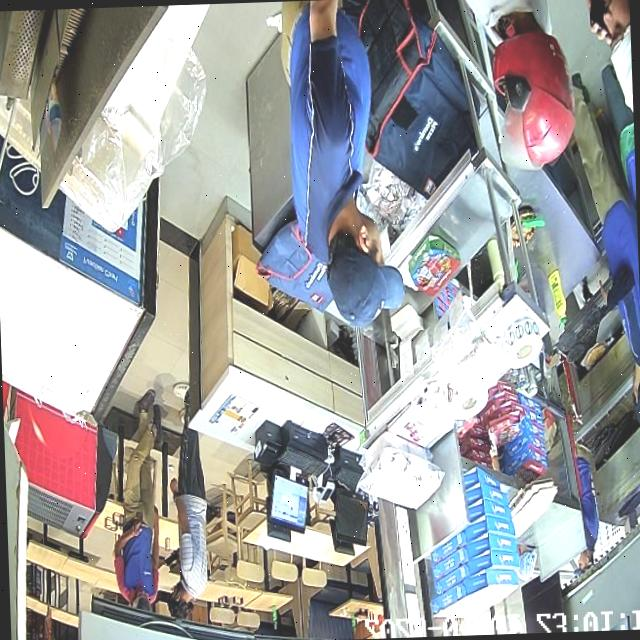helmet: (492, 17, 574, 171)
no_helmet: (325, 192, 404, 326)
